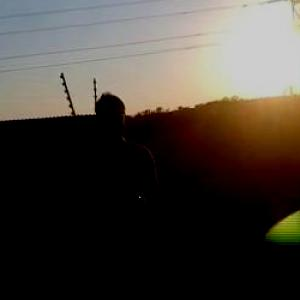follow: (78, 81, 172, 298)
